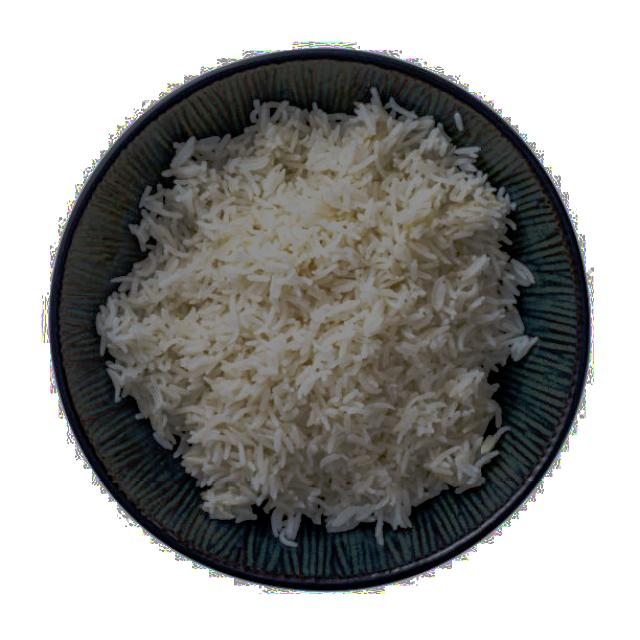rice: (95, 88, 539, 547)
